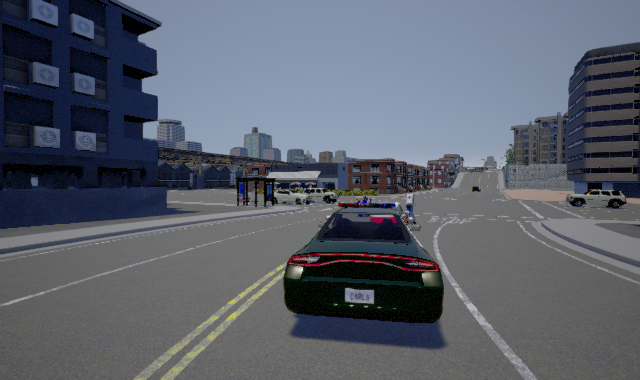bike: (402, 190, 417, 227)
vehicle: (283, 198, 444, 323), (566, 189, 627, 209), (274, 188, 309, 205), (304, 188, 338, 204)
